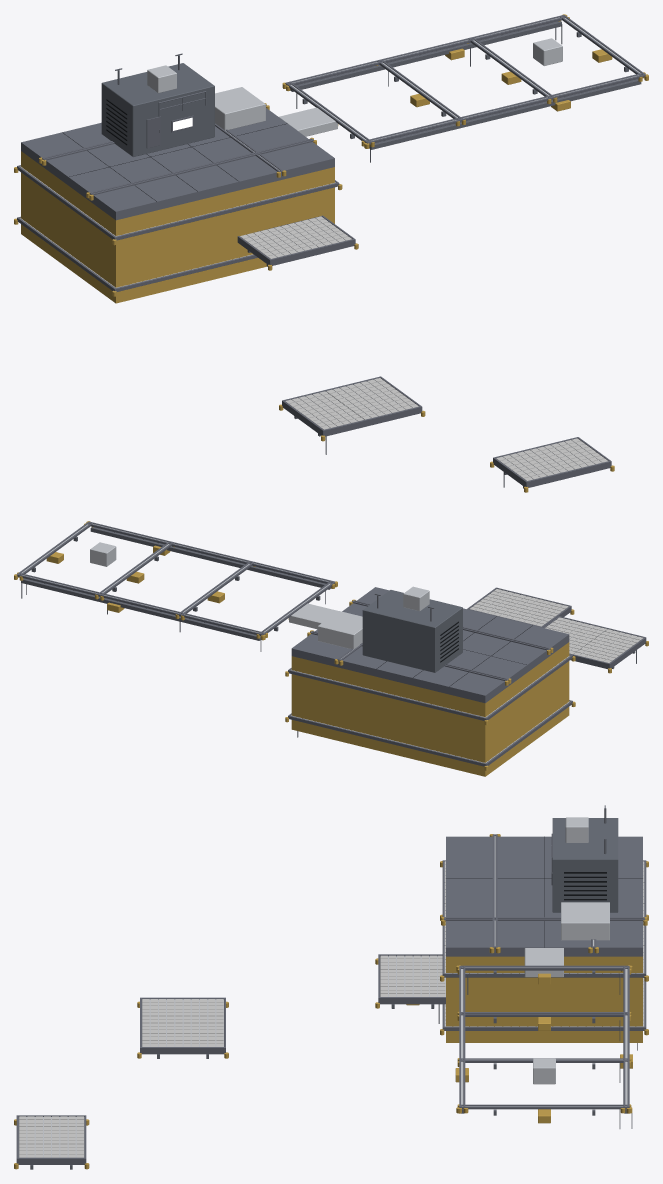
The picture shows the model from 3 angles, top to bottom: view 1: azimuth 30°, elevation 25°; view 2: azimuth 150°, elevation 25°; view 3: azimuth 270°, elevation 25°; orthographic projection. The views are drawn at different scales.
Visible parts, largest first — view 1: p0_m3; view 2: p0_m3; view 3: p0_m3.
Part boxes in pixels (x1,y1,x2,y2): p0_m3: (14,14,648,492); p0_m3: (14,521,648,776); p0_m3: (14,805,648,1169).
Size of the model in its own units: 39.82 by 18.48 by 38.65.
